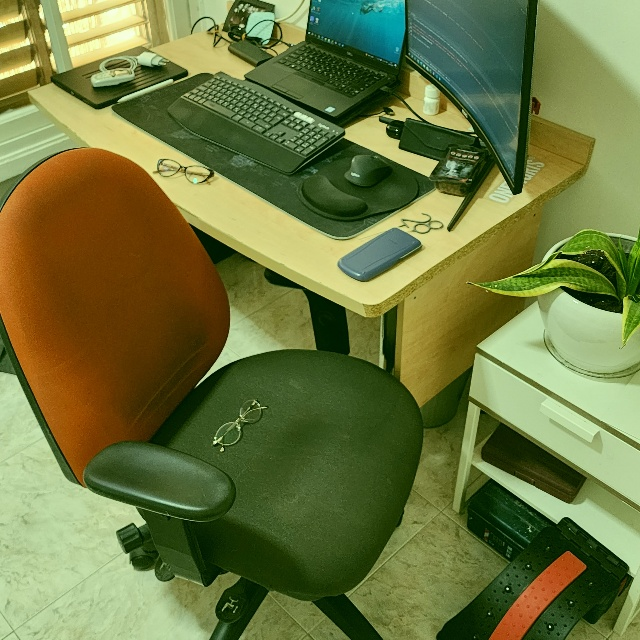glasses: (210, 397, 270, 454), (149, 153, 215, 187)
